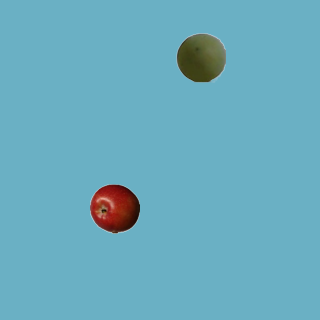Apple Braeburn: (89, 183, 139, 233)
Grape White 4: (175, 32, 225, 82)
